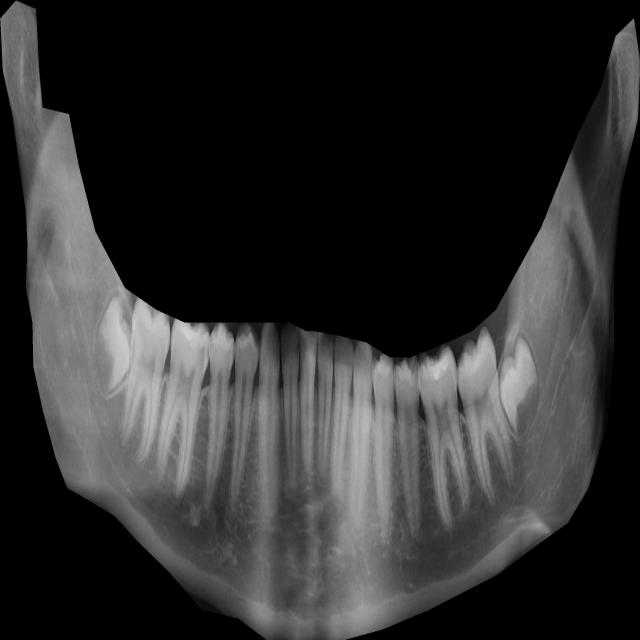mandibula: (0, 0, 640, 640)
